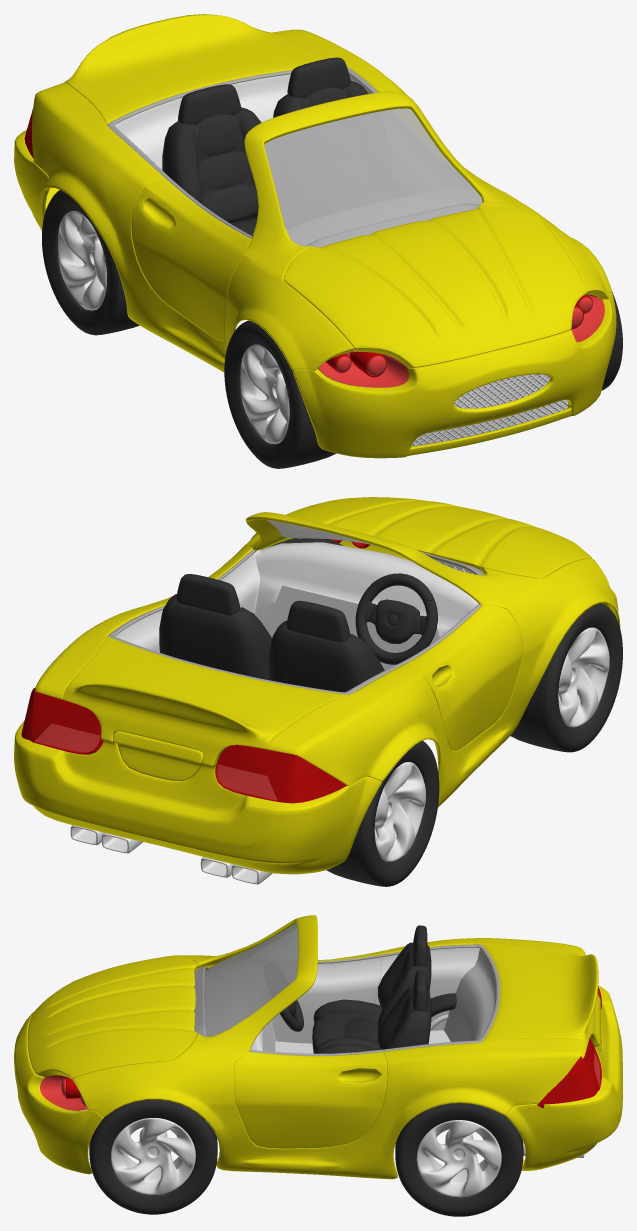
File: Car.fbx
3 views of the same model, one above another, from view 1: azimuth 30°, elevation 25°; view 2: azimuth 150°, elevation 25°; view 3: azimuth 270°, elevation 25° (orthographic). The views are drawn at different scales.
Parts seen in each view (by area): view 1: Body, FRW, BRW, FLW; view 2: Body, FRW, BRW, steering_wheel; view 3: Body, FLW, BLW, BRW, steering_wheel.
Boxes of the visible parts, <box> form: Body: <box>14,14,616,458</box>; FRW: <box>224,320,359,468</box>; BRW: <box>42,190,139,335</box>; FLW: <box>601,292,622,390</box>; Body: <box>14,497,620,884</box>; FRW: <box>510,603,622,752</box>; BRW: <box>326,740,439,886</box>; steering_wheel: <box>355,573,437,664</box>; Body: <box>14,915,622,1179</box>; FLW: <box>89,1099,217,1214</box>; BLW: <box>395,1103,523,1216</box>; BRW: <box>430,993,456,1031</box>; steering_wheel: <box>280,1000,303,1031</box>.
Bounding box in the file's own units: 13.07 × 9.05 × 23.77.
